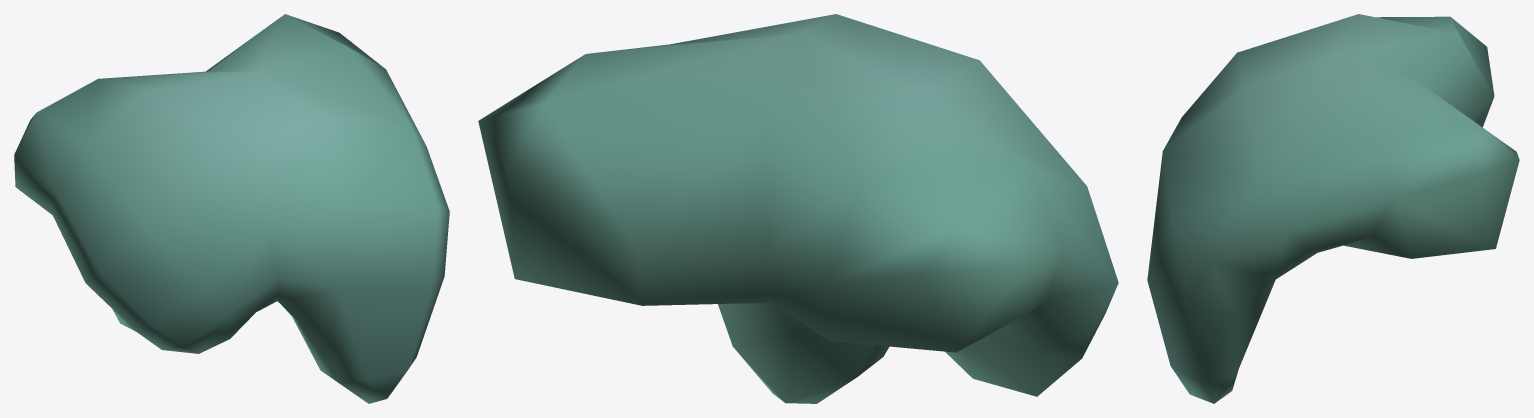
The model's file is SeaweedLumpB.glb.
The picture shows the model from 3 angles, left to right: view 1: azimuth 30°, elevation 25°; view 2: azimuth 150°, elevation 25°; view 3: azimuth 270°, elevation 25°; orthographic projection. The views are drawn at different scales.
Visible parts, largest first — view 1: SeaweedLumpB; view 2: SeaweedLumpB; view 3: SeaweedLumpB.
Boxes of the visible parts, box(x1,y1,x2,y2) form: SeaweedLumpB: box(14, 14, 449, 403); SeaweedLumpB: box(478, 14, 1118, 403); SeaweedLumpB: box(1147, 14, 1519, 403).
Bounding box in the file's own units: 0.3134 × 0.2513 × 0.2696.
